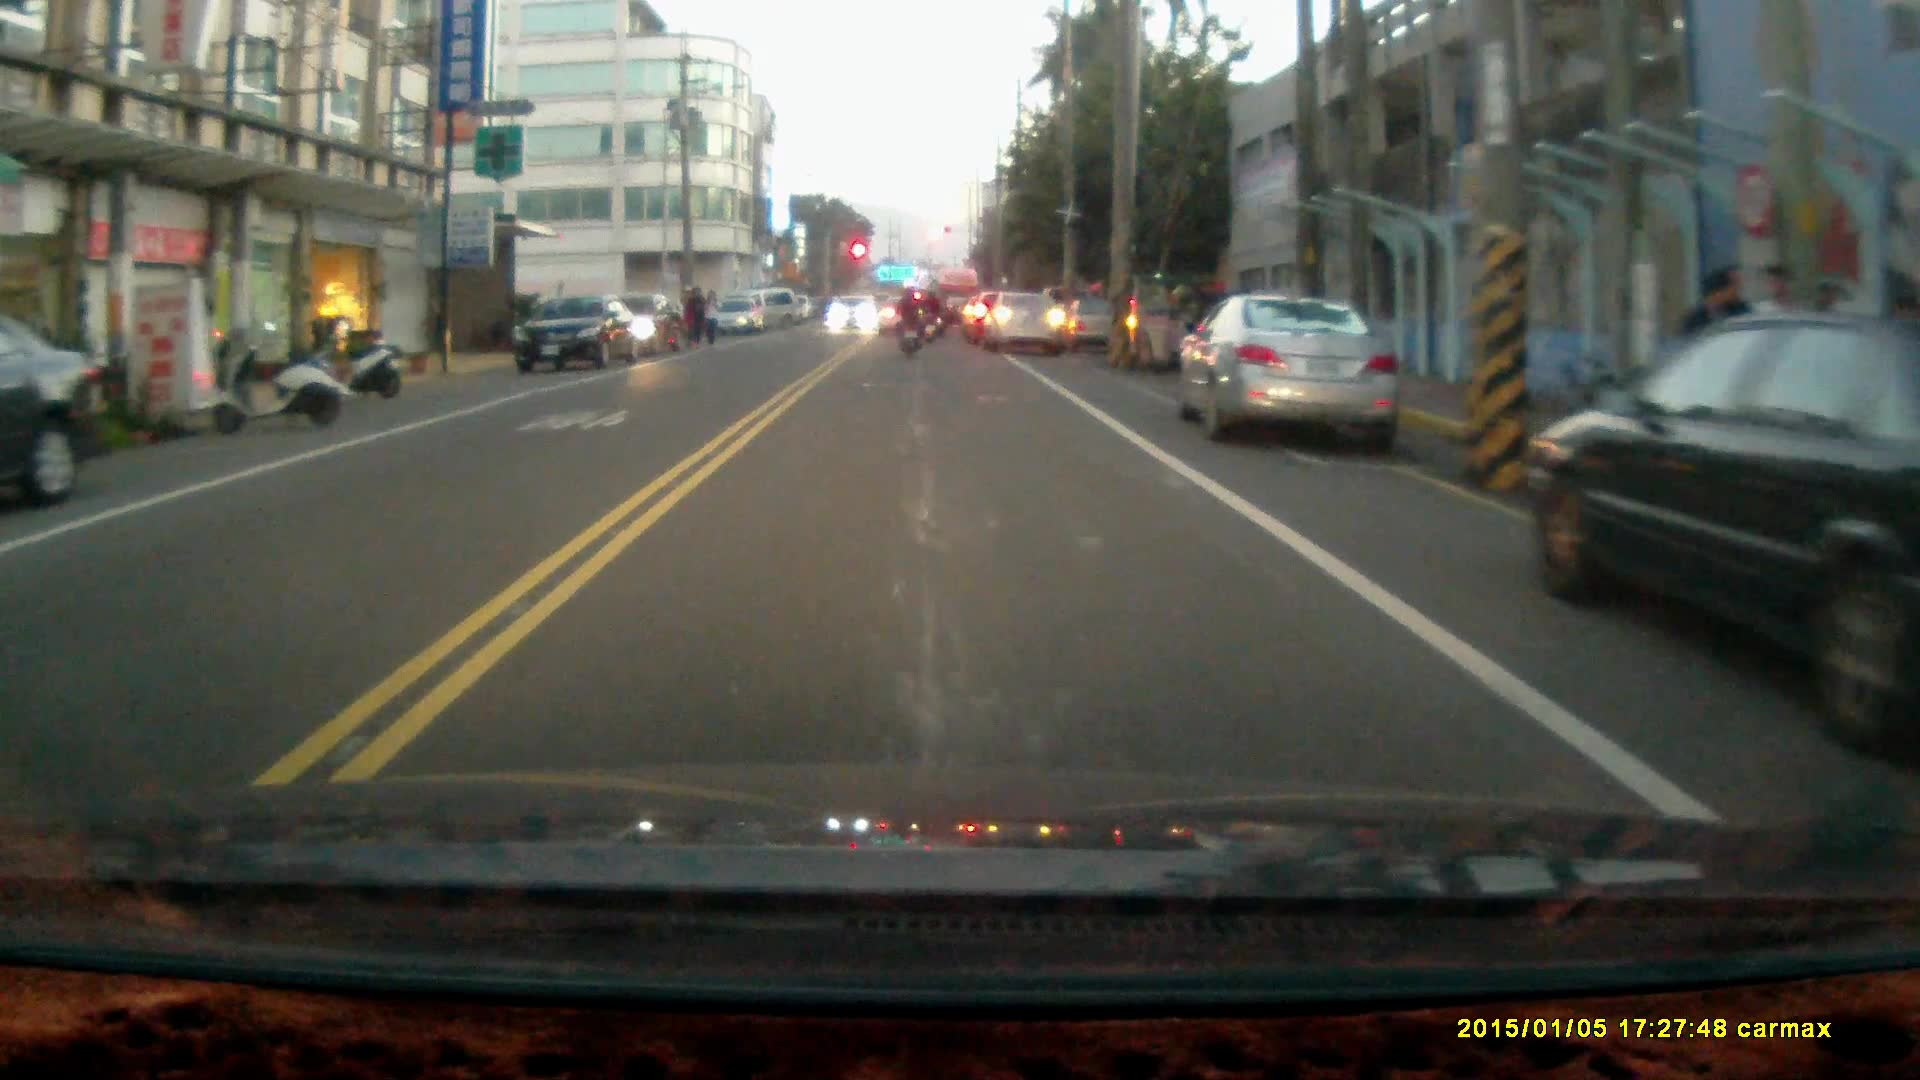pedestrian: (681, 284, 704, 350), (700, 289, 720, 349)
rider: (891, 283, 923, 359)
vehicle: (1529, 314, 1920, 701), (1174, 298, 1400, 446), (1, 313, 115, 511), (509, 296, 643, 381), (980, 289, 1064, 354), (824, 295, 878, 340)
